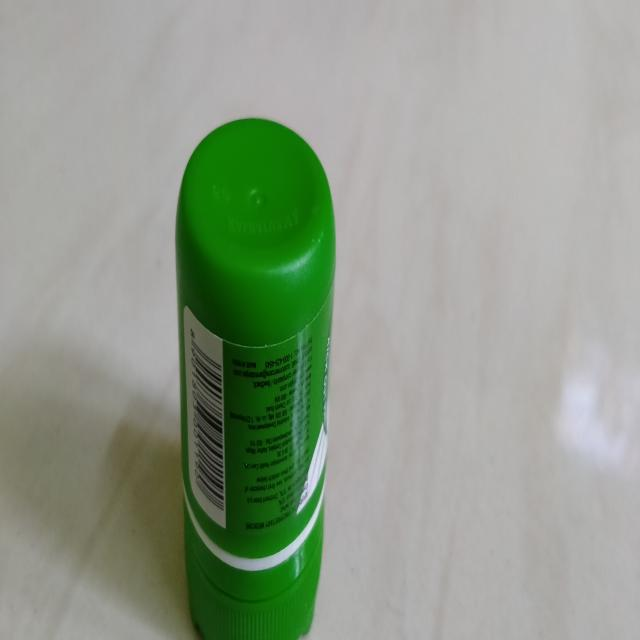eucalyptus oil: (171, 114, 332, 640)
